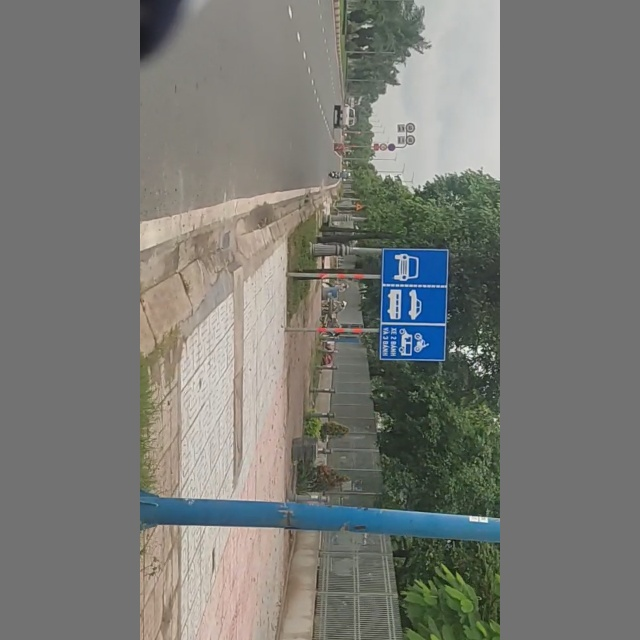R.415a: (377, 246, 450, 363)
